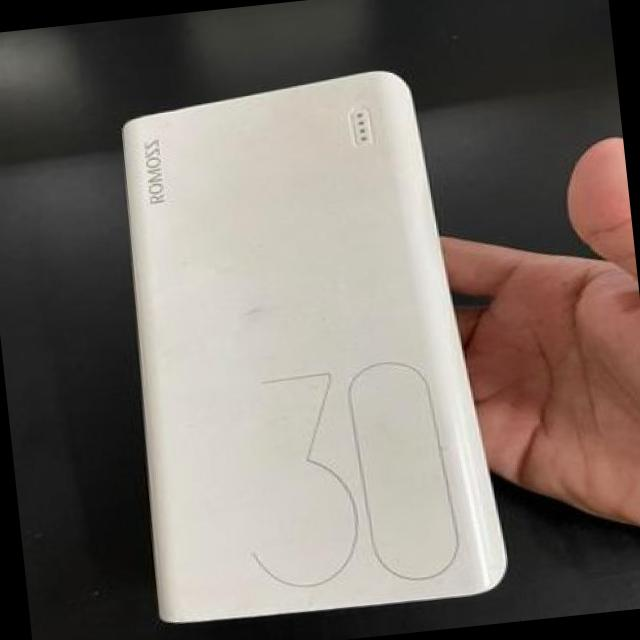power_bank: (97, 49, 516, 638)
